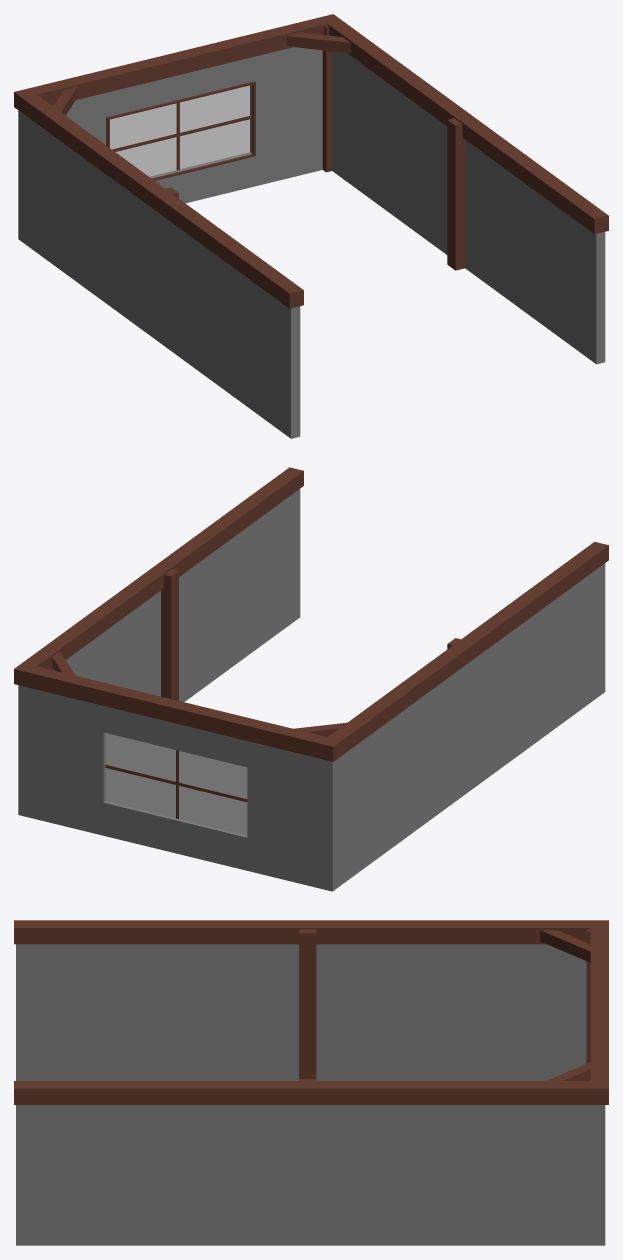
Rendered from Store.fbx.
The picture shows the model from 3 angles, top to bottom: view 1: azimuth 30°, elevation 25°; view 2: azimuth 150°, elevation 25°; view 3: azimuth 270°, elevation 25°; orthographic projection. The views are drawn at different scales.
Visible parts, largest first — view 1: Shop; view 2: Shop; view 3: Shop.
Part boxes in pixels (x1,y1,x2,y2): Shop: [14, 14, 608, 438]; Shop: [14, 467, 608, 891]; Shop: [14, 920, 608, 1245].
Bounding box in the file's own units: 683 × 300 × 1021.
